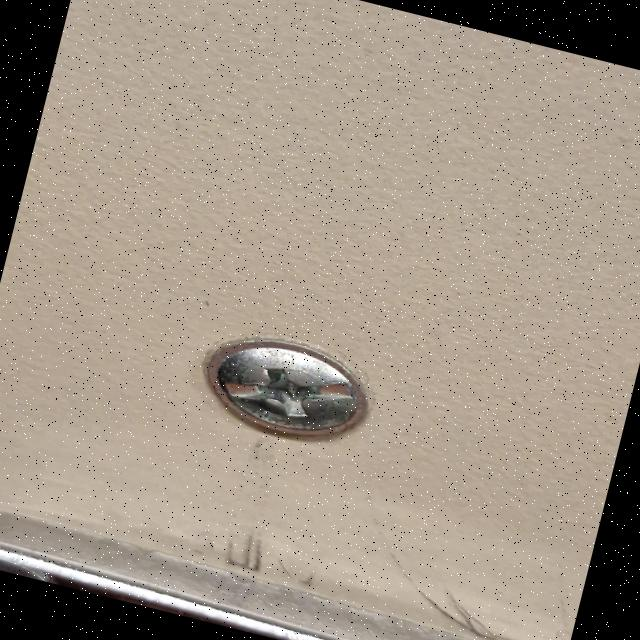Phillips: (147, 306, 410, 478)
